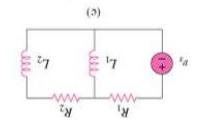inductor: (14, 44, 34, 83), (82, 43, 100, 76)
